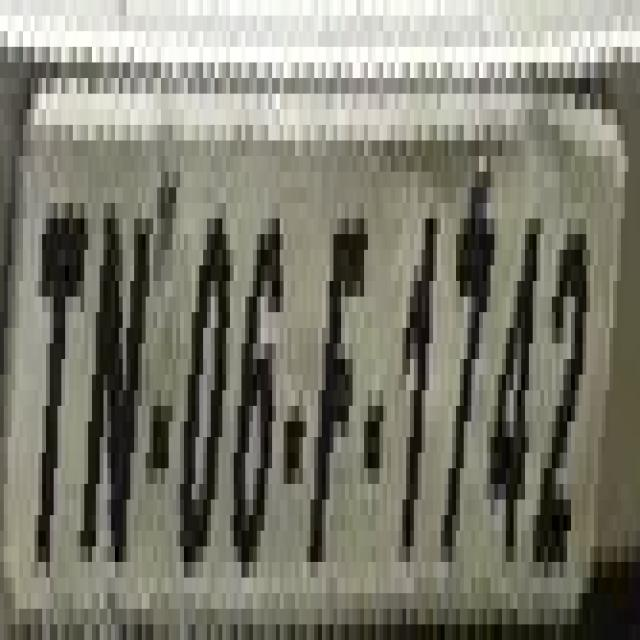license_plate: (4, 78, 605, 640)
